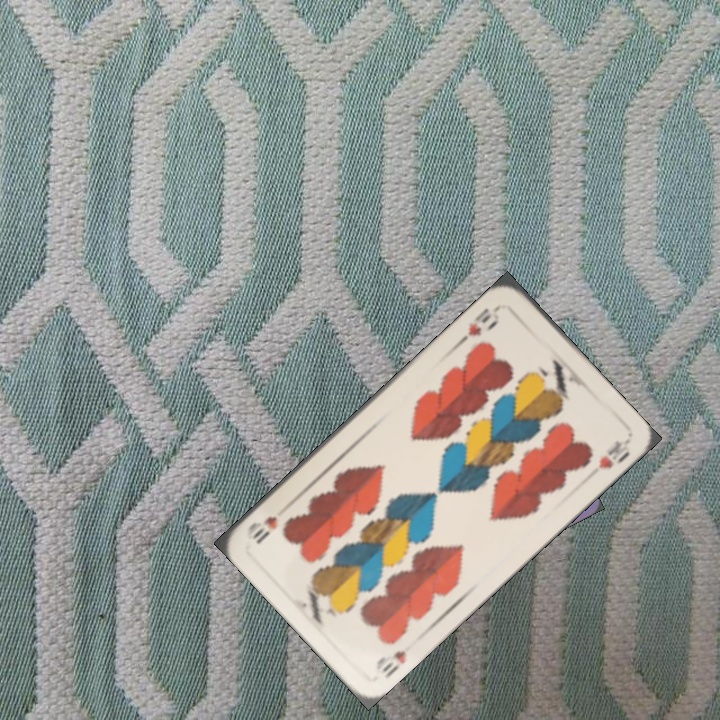H10: (456, 300, 504, 345), (371, 646, 409, 681)
